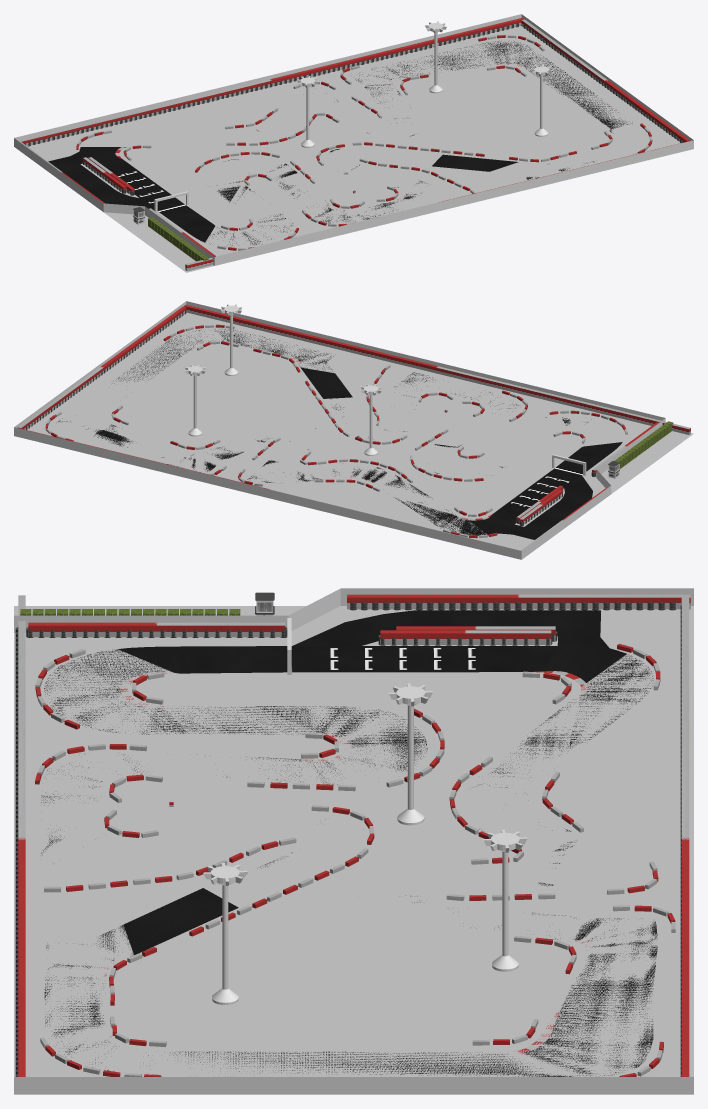
File: track_tutorial.fbx
The picture shows the model from 3 angles, top to bottom: view 1: azimuth 30°, elevation 25°; view 2: azimuth 150°, elevation 25°; view 3: azimuth 270°, elevation 25°; orthographic projection. The views are drawn at different scales.
Visible parts, largest first — view 1: 1GRASS_main_grass, 1WALL_out_wall, 1ROAD_main_road, 1WALL_tire_wall2, 1WALL_white_wall, 1WALL_red_wall, 1PITS_main_pits, 1WALL_tire_wall2.005, 0Tires1, 1WALL_shrub, 1WALL_tire_wall_1, 0Light2.001 (+3 smaller); view 2: 1GRASS_main_grass, 1WALL_out_wall, 1ROAD_main_road, 1WALL_tire_wall_1, 1WALL_white_wall, 1WALL_red_wall, 1PITS_main_pits, 1WALL_tire_wall2.005, 1WALL_shrub, 1WALL_tire_wall2, 0Tires2.001, 0Light2.002 (+2 smaller); view 3: 1GRASS_main_grass, 1ROAD_main_road, 1WALL_out_wall, 1WALL_white_wall, 1WALL_red_wall, 1PITS_main_pits, 1WALL_tire_wall2.001, 1WALL_tire_wall2, 1WALL_tire_wall_1, 1WALL_tire_wall2.004, 1WALL_tire_wall2.002, 0Tires2.003 (+9 smaller).
Part boxes in pixels (x1,y1,x2,y2): 1GRASS_main_grass: [28, 26, 680, 272]; 1WALL_out_wall: [14, 14, 693, 265]; 1ROAD_main_road: [79, 41, 637, 245]; 1WALL_tire_wall2: [19, 18, 523, 146]; 1WALL_white_wall: [77, 35, 652, 250]; 1WALL_red_wall: [76, 35, 651, 250]; 1PITS_main_pits: [48, 152, 154, 210]; 1WALL_tire_wall2.005: [521, 19, 689, 142]; 0Tires1: [24, 22, 521, 146]; 1WALL_shrub: [148, 217, 208, 261]; 1WALL_tire_wall_1: [185, 141, 689, 271]; 0Light2.001: [297, 76, 318, 147]; 1GRASS_main_grass: [27, 312, 693, 550]; 1WALL_out_wall: [14, 301, 665, 559]; 1ROAD_main_road: [58, 329, 622, 535]; 1WALL_tire_wall_1: [184, 305, 690, 434]; 1WALL_white_wall: [46, 324, 627, 537]; 1WALL_red_wall: [45, 324, 625, 538]; 1PITS_main_pits: [499, 475, 592, 539]; 1WALL_tire_wall2.005: [18, 306, 186, 429]; 1WALL_shrub: [614, 421, 673, 468]; 1WALL_tire_wall2: [18, 428, 521, 550]; 0Tires2.001: [23, 310, 186, 429]; 0Light2.002: [184, 364, 205, 436]; 1GRASS_main_grass: [14, 606, 693, 1076]; 1ROAD_main_road: [41, 646, 657, 1076]; 1WALL_out_wall: [14, 588, 693, 1094]; 1WALL_white_wall: [35, 648, 675, 1076]; 1WALL_red_wall: [35, 643, 675, 1076]; 1PITS_main_pits: [293, 610, 609, 648]; 1WALL_tire_wall2.001: [347, 594, 690, 609]; 1WALL_tire_wall2: [681, 597, 689, 1076]; 1WALL_tire_wall_1: [18, 595, 25, 1076]; 1WALL_tire_wall2.004: [28, 622, 285, 637]; 1WALL_tire_wall2.002: [380, 630, 551, 644]; 0Tires2.003: [350, 602, 675, 610].
Bounding box in the file's own units: 137 × 16.58 × 80.29.
